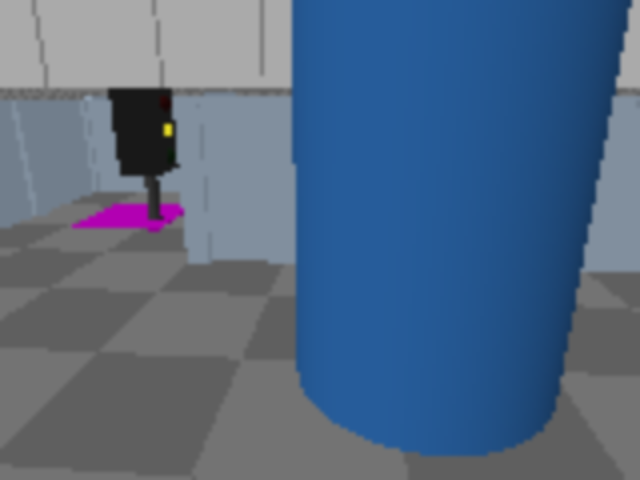goal_zone: (69, 205, 192, 230)
traffic_light: (107, 81, 183, 226)
